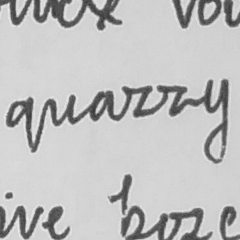a: (87, 88, 116, 122)
q: (4, 95, 39, 154)
u: (46, 92, 77, 128)
y: (199, 76, 231, 165)
z: (155, 82, 191, 119), (119, 82, 154, 119)
